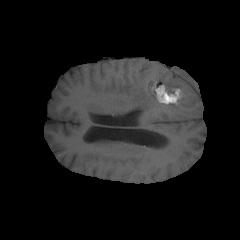glioma: (127, 63, 196, 116)
